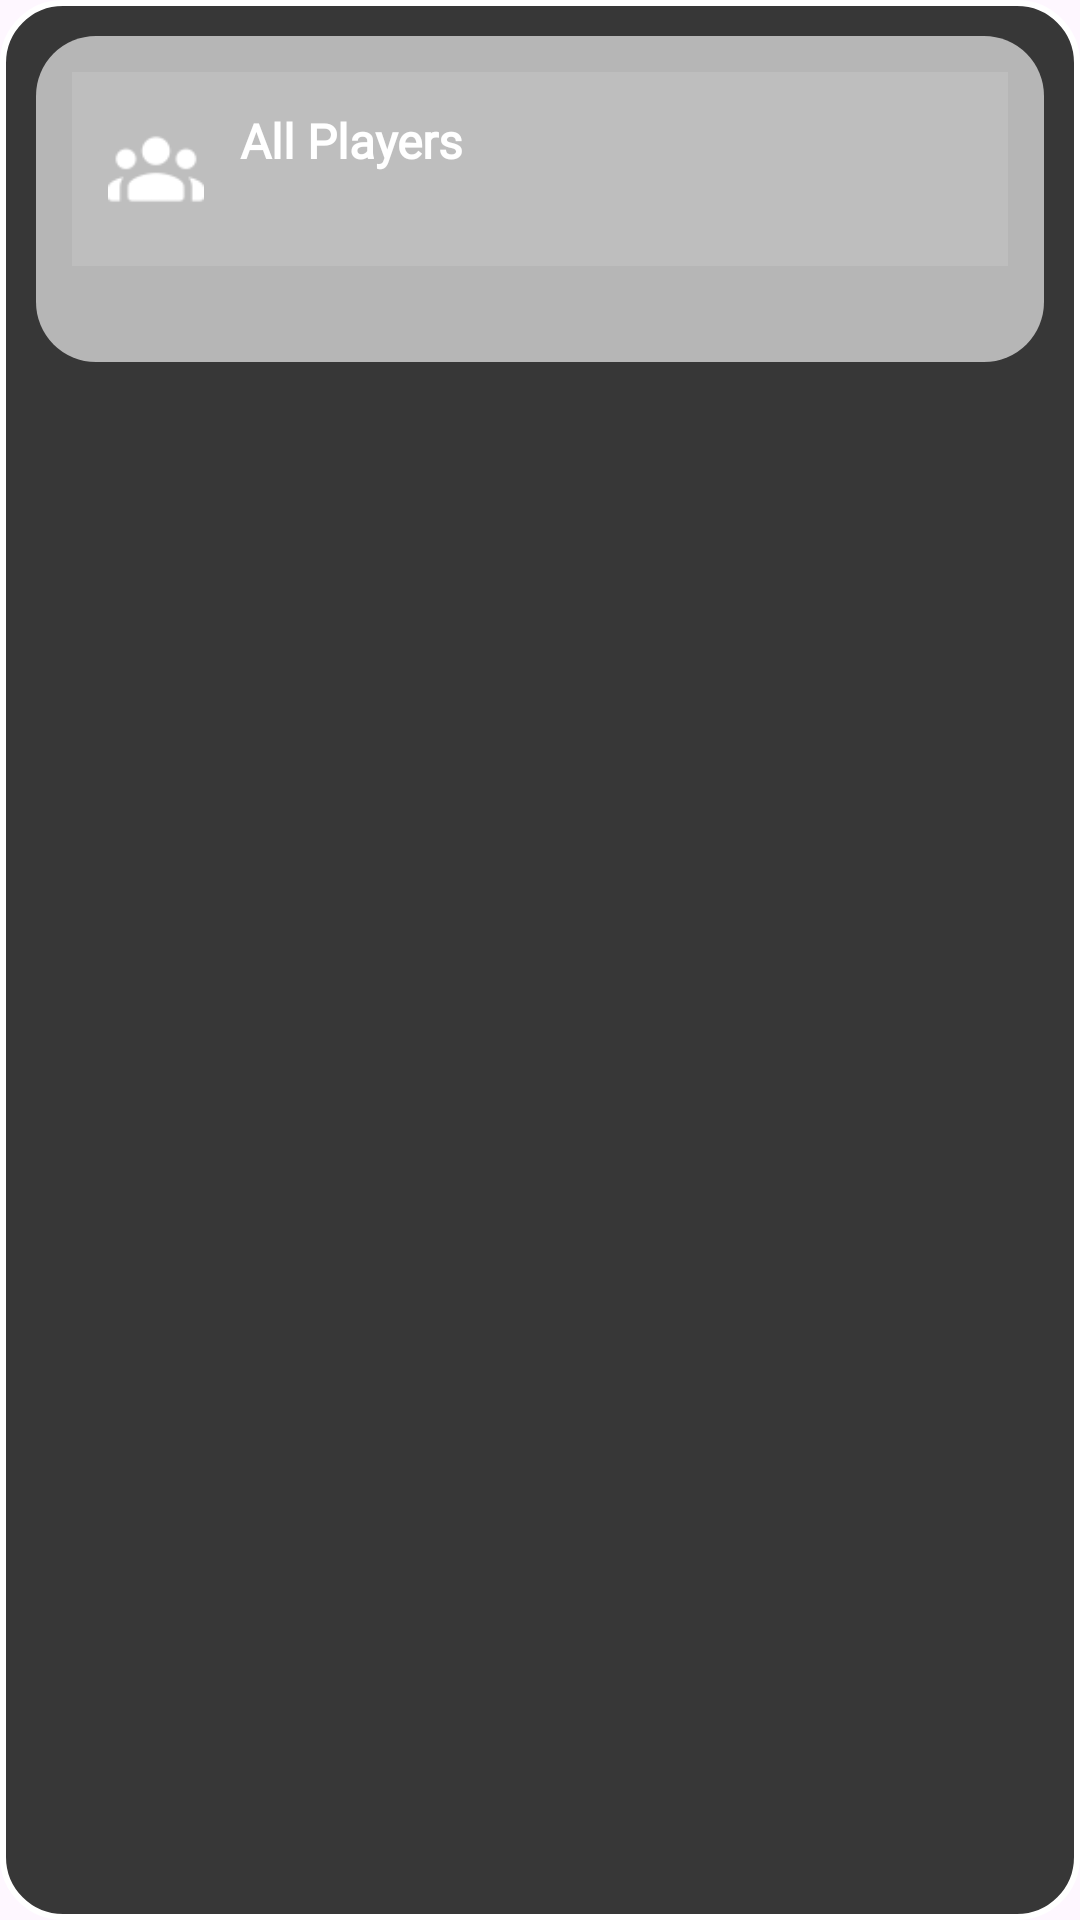

Screen size 1080w x 1920h. Icon name, then its center in pixels as [x,y]:
friends: [156,169]
